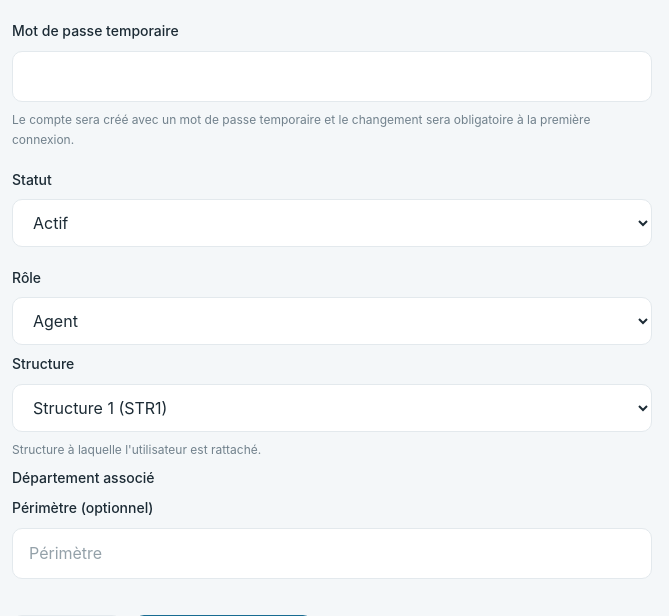
Test case: le département associé s'affiche automatiquement après sélection d'une structure
The image size is (669, 616).
(page scrolled)
Select "Structure 1 (STR1)" in the dropdown with test id "user-structure-id" at (332, 408), box [12,384,652,432]
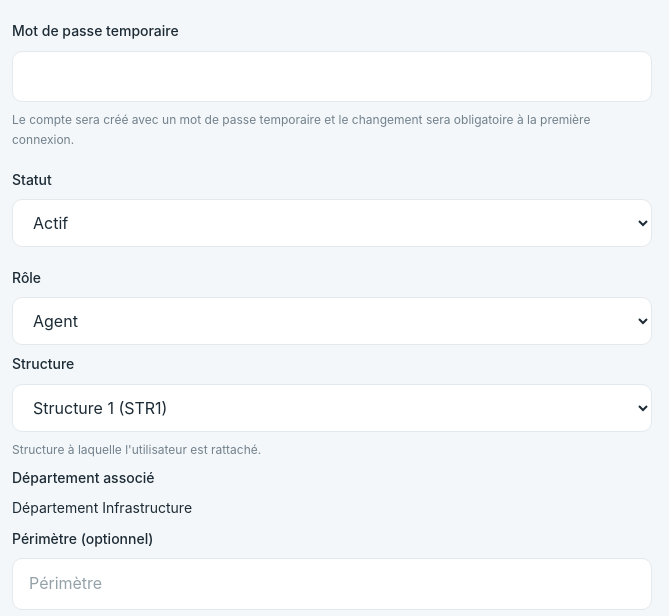
Result: the text with test id "user-department-value" reads "Département Infrastructure" at [12,499,192,516]
